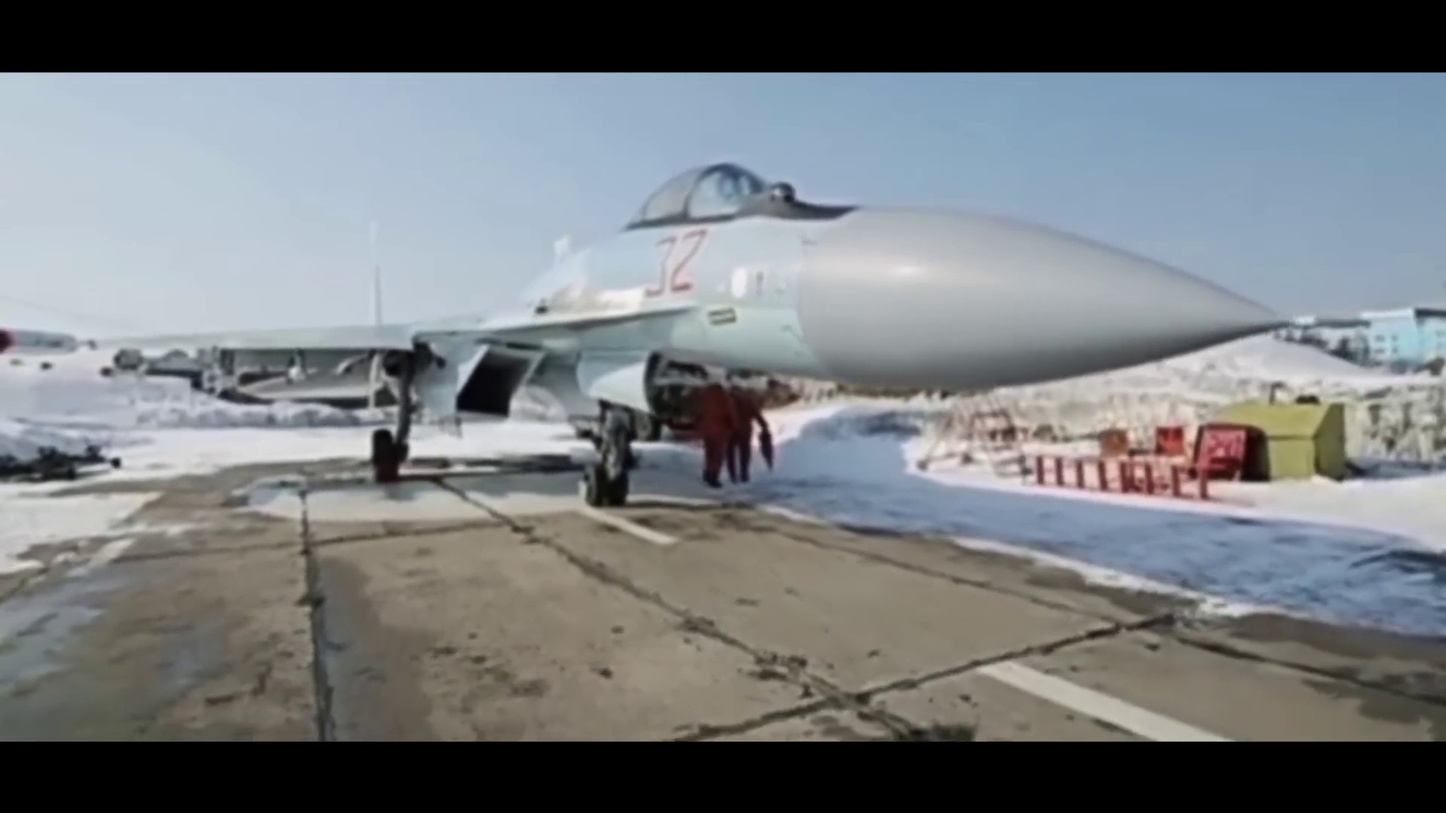Su35: (99, 161, 1299, 507)
